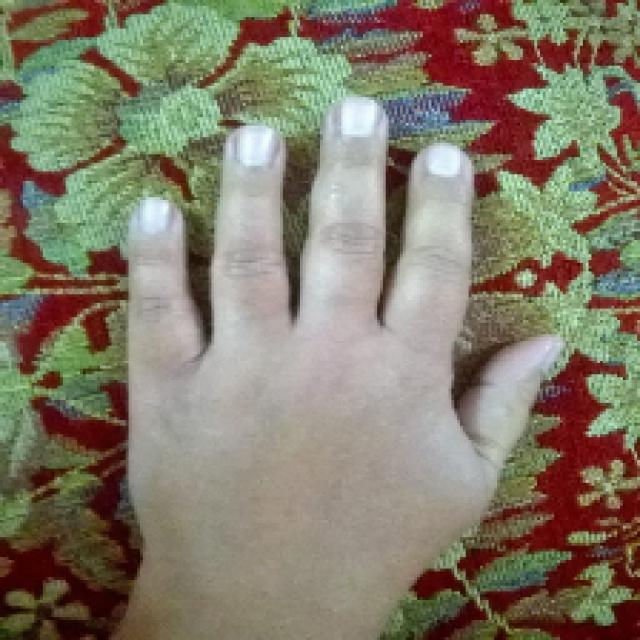Nail: (234, 125, 280, 168), (339, 98, 378, 138), (138, 198, 172, 234), (425, 144, 461, 178), (539, 343, 564, 377)
